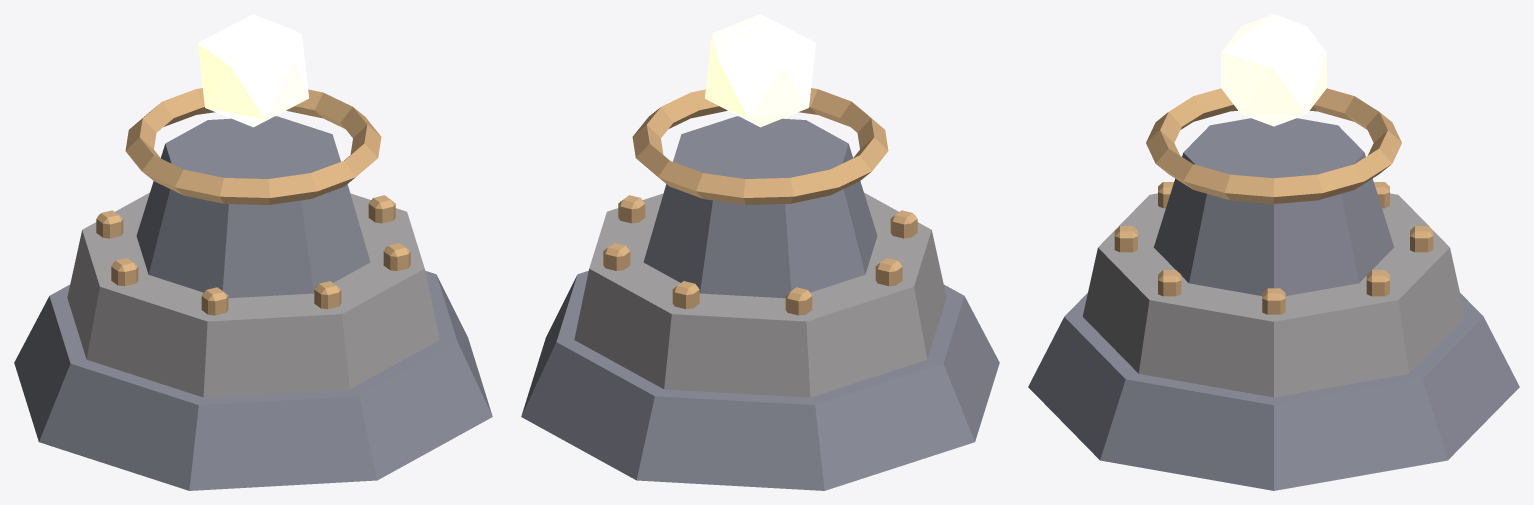
File: shrine.glb
3 renders of one model, left to right at view 1: azimuth 30°, elevation 25°; view 2: azimuth 150°, elevation 25°; view 3: azimuth 270°, elevation 25°, orthographic.
Parts seen in each view (by area): view 1: Plinth base, Carved step, Altar, Rune ring, Suspended ember, Rune.006, Rune.003, Rune.004, Rune.005, Rune, Rune.007; view 2: Plinth base, Carved step, Altar, Rune ring, Suspended ember, Rune.002, Rune.003, Rune.004, Rune.005, Rune, Rune.001; view 3: Plinth base, Carved step, Altar, Rune ring, Suspended ember, Rune.001, Rune.007, Rune.002, Rune.006, Rune.
Boxes of the visible parts, bbox=[...] form: Plinth base: bbox=[14, 271, 492, 490]; Carved step: bbox=[67, 192, 439, 397]; Altar: bbox=[136, 116, 370, 298]; Rune ring: bbox=[125, 88, 381, 204]; Suspended ember: bbox=[198, 14, 308, 127]; Rune.006: bbox=[314, 281, 341, 309]; Rune.003: bbox=[96, 210, 123, 238]; Rune.004: bbox=[111, 258, 138, 286]; Rune.005: bbox=[201, 287, 228, 315]; Rune: bbox=[368, 195, 395, 223]; Rune.007: bbox=[383, 243, 410, 270]; Plinth base: bbox=[521, 271, 999, 490]; Carved step: bbox=[574, 192, 946, 397]; Altar: bbox=[643, 116, 877, 298]; Rune ring: bbox=[632, 88, 888, 204]; Suspended ember: bbox=[705, 14, 815, 127]; Rune.002: bbox=[672, 281, 699, 309]; Rune.003: bbox=[785, 287, 812, 315]; Rune.004: bbox=[875, 258, 902, 286]; Rune.005: bbox=[890, 210, 917, 238]; Rune: bbox=[618, 195, 645, 223]; Rune.001: bbox=[603, 243, 630, 270]; Plinth base: bbox=[1028, 293, 1519, 490]; Carved step: bbox=[1082, 193, 1465, 397]; Altar: bbox=[1154, 118, 1393, 295]; Rune ring: bbox=[1146, 88, 1401, 203]; Suspended ember: bbox=[1221, 14, 1326, 126]; Rune.001: bbox=[1366, 270, 1389, 296]; Rune.007: bbox=[1158, 270, 1181, 296]; Rune.002: bbox=[1410, 226, 1433, 252]; Rune.006: bbox=[1114, 226, 1137, 252]; Rune: bbox=[1262, 288, 1285, 314].
Bounding box in the file's own units: 1.9 × 1.59 × 1.9.
